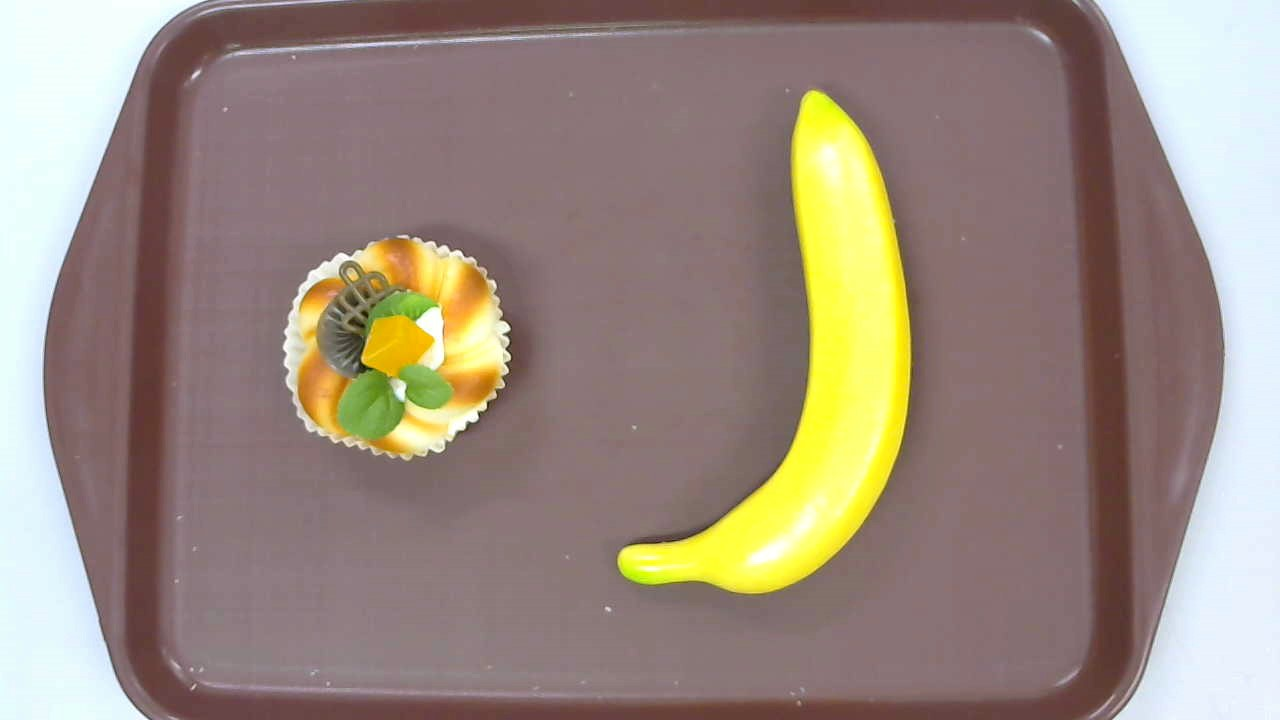banana: (615, 89, 911, 597)
fruit tart: (283, 234, 511, 462)
